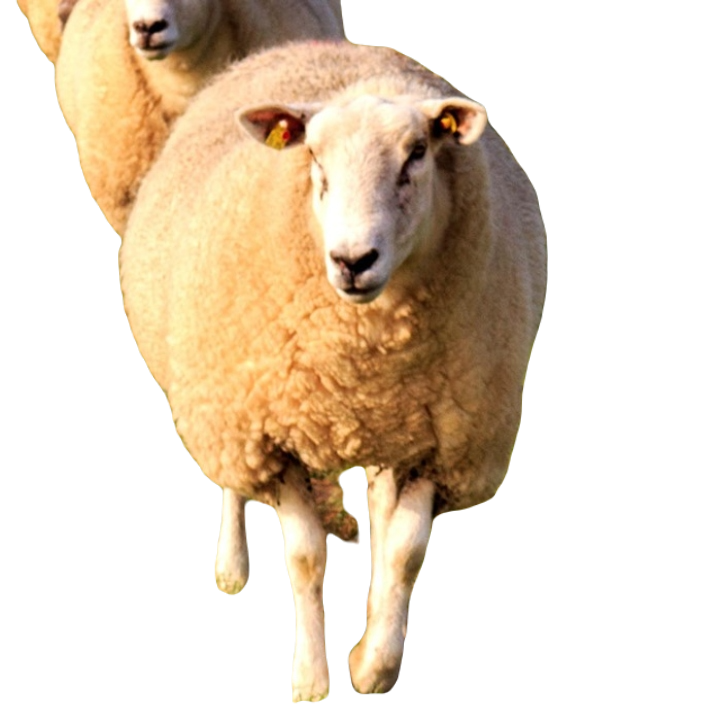Sheep: (114, 40, 550, 710)
